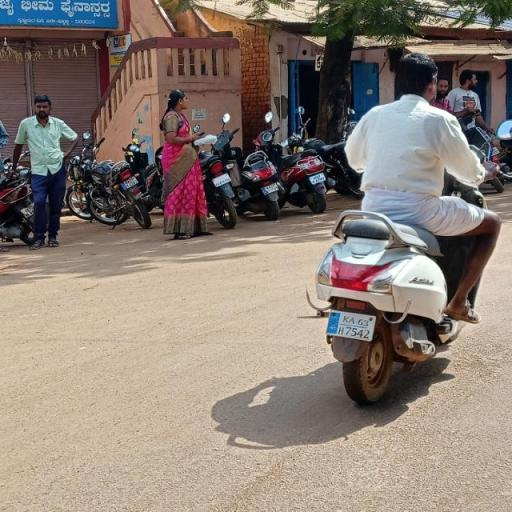bike: (306, 50, 510, 406)
numberplate: (330, 308, 380, 347)
withouthelmet: (398, 56, 438, 98)
